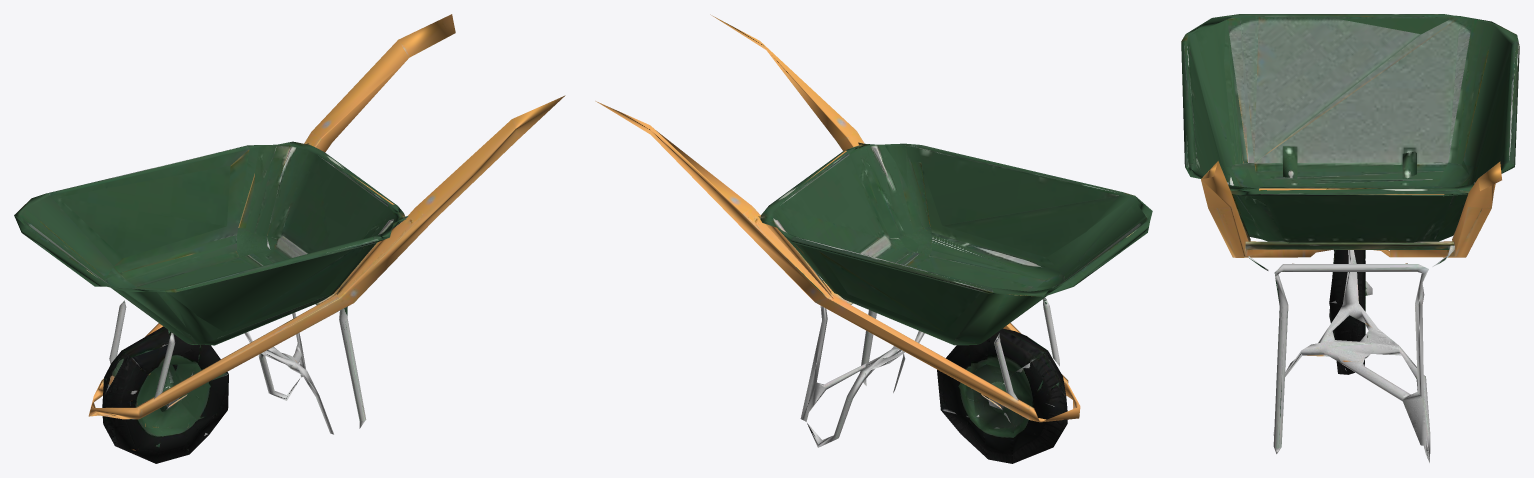
The model's file is wheelbarrow.glb.
3 renders of one model, left to right at view 1: azimuth 30°, elevation 25°; view 2: azimuth 150°, elevation 25°; view 3: azimuth 270°, elevation 25°, orthographic. The views are drawn at different scales.
Size of the model in its own units: 0.9595 by 0.6494 by 0.4902.
1 material, 1 textured.
